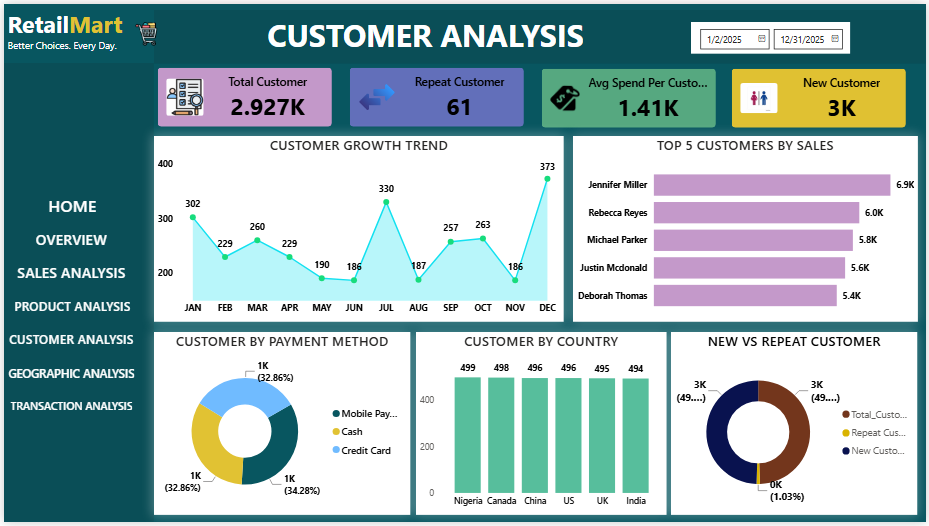

Layout of this report page (visuals, bound fields, positions):
{"tool":"powerbi","page":{"name":"CUSTOMER ANALYSIS","canvas":[1280,720],"ordinal":5},"visuals":[{"type":"shape","box":[208.5,8.5,1071.8,74.6],"z":1000},{"type":"shape","box":[0,82.3,208.5,637.3],"z":2000},{"type":"textbox","box":[335.2,8.5,501.4,69],"z":3000},{"type":"cardVisual","fields":{"Data":["public Sales Data.Total Customer"]},"box":[208.6,83.4,252.8,92],"z":4000},{"type":"cardVisual","fields":{"Data":["public Sales Data.Repeat Customer"]},"box":[474.8,83.4,252.8,92],"z":5000},{"type":"textbox","box":[0,0,266.2,83.1],"z":6000,"group":"g1"},{"type":"cardVisual","fields":{"Data":["public Sales Data.Avg Spend Per Customer"]},"box":[741,84.7,252,92],"z":6000},{"type":"cardVisual","fields":{"Data":["public Sales Data.New Customer"]},"box":[1006,85,252.8,92],"z":7000},{"type":"clusteredBarChart","title":"TOP 5 CUSTOMERS BY SALES","fields":{"Category":["public Sales Data.Customer Name"],"Y":["public Sales Data.Total Sales"]},"box":[790.1,183.1,478.9,257.7],"z":8000},{"type":"lineChart","title":"CUSTOMER GROWTH TREND","fields":{"Category":["public Sales Data.MONTH_NAME"],"Y":["public Sales Data.Total Customers"]},"box":[208.6,182.8,569.3,257.7],"z":9000},{"type":"donutChart","title":"CUSTOMER BY PAYMENT METHOD","fields":{"Category":["public Sales Data.Payment Method"],"Y":["public Sales Data.Total Customer"]},"box":[208.5,454.9,356.3,253.5],"z":10000},{"type":"slicer","fields":{"Values":["public Sales Data.Date"]},"box":[953.5,25.4,221.1,43.7],"z":11000},{"type":"donutChart","title":"NEW VS REPEAT CUSTOMER","fields":{"Y":["public Sales Data.Total_Customers","public Sales Data.Repeat Customer","public Sales Data.New Customer"]},"box":[926.8,454.9,342.3,253.5],"z":12000},{"type":"columnChart","title":"CUSTOMER BY COUNTRY","fields":{"Category":["public Sales Data.Country"],"Y":["public Sales Data.Total_Customers"]},"box":[571.8,454.9,347.9,253.5],"z":13000},{"type":"actionButton","box":[1.4,256.3,187.3,46.5],"z":14000},{"type":"actionButton","box":[0,302.8,187.3,46.5],"z":15000},{"type":"actionButton","box":[1.4,395.8,187.3,46.5],"z":16000},{"type":"actionButton","box":[0,442.3,187.3,46.5],"z":17000},{"type":"actionButton","box":[0,488.7,187.3,46.5],"z":18000},{"type":"actionButton","box":[0,535.2,187.3,46.5],"z":19000},{"type":"actionButton","box":[0,349.3,187.3,46.5],"z":20000},{"type":"group","id":"g1","title":"Group 1","box":[0,0,266.7,83.3],"z":21000},{"type":"image","box":[175.7,25.7,45.8,32.8],"z":30001,"group":"g1"}]}

Visuals, with their boxes in screenshot pixels (x1, y1, x2, y2), scaled from the page's 1280x720 canvas onto the 929x526 screenshot:
shape: 151/6/928/61
shape: 0/60/151/525
textbox: 243/6/607/57
cardVisual - public Sales Data.Total Customer: 151/61/335/128
cardVisual - public Sales Data.Repeat Customer: 345/61/528/128
textbox: 0/0/193/61
cardVisual - public Sales Data.Avg Spend Per Customer: 538/62/721/129
cardVisual - public Sales Data.New Customer: 730/62/914/129
"TOP 5 CUSTOMERS BY SALES" clusteredBarChart: 573/134/921/322
"CUSTOMER GROWTH TREND" lineChart: 151/134/565/322
"CUSTOMER BY PAYMENT METHOD" donutChart: 151/332/410/518
slicer - public Sales Data.Date: 692/19/853/50
"NEW VS REPEAT CUSTOMER" donutChart: 673/332/921/518
"CUSTOMER BY COUNTRY" columnChart: 415/332/668/518
actionButton: 1/187/137/221
actionButton: 0/221/136/255
actionButton: 1/289/137/323
actionButton: 0/323/136/357
actionButton: 0/357/136/391
actionButton: 0/391/136/425
actionButton: 0/255/136/289
"Group 1" group: 0/0/194/61
image: 128/19/161/43
